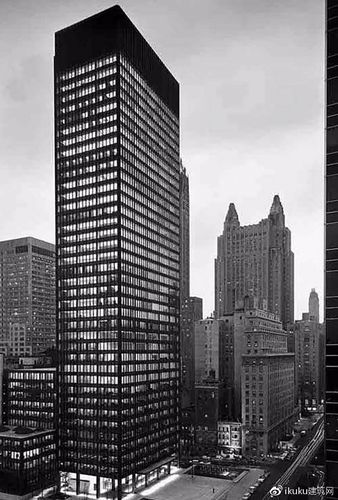buildings: (8, 42, 198, 500), (30, 20, 195, 297), (208, 198, 304, 466)
